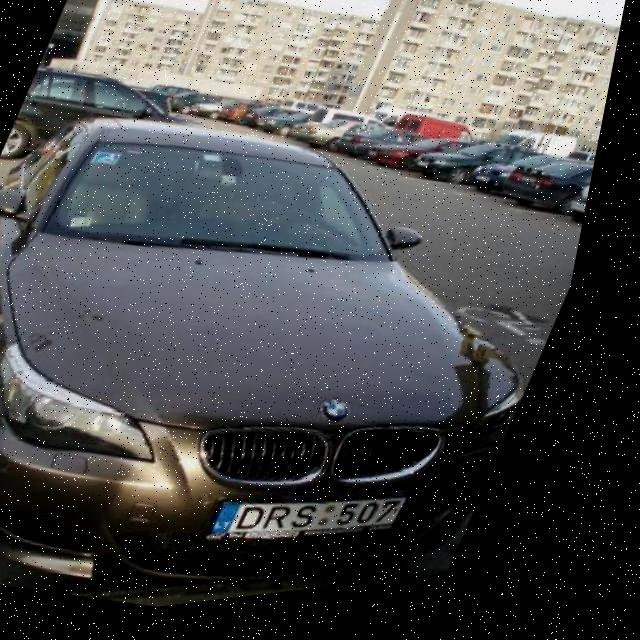license_plate: (221, 466, 435, 589), (530, 187, 550, 199)
